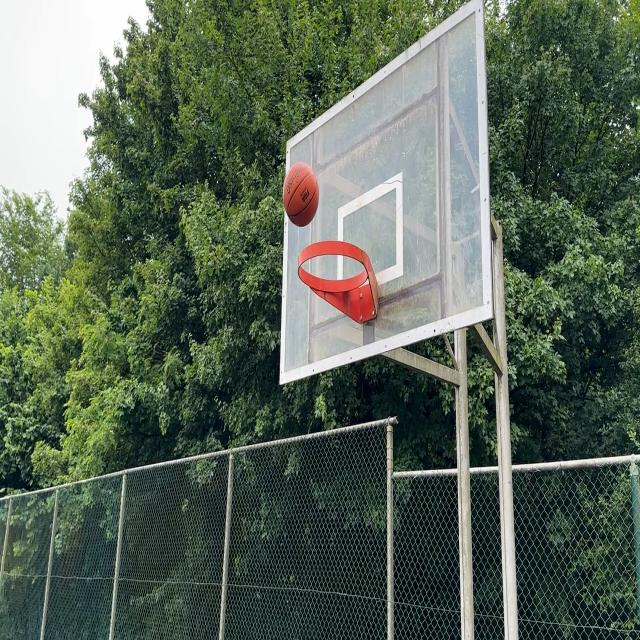Basketball: (283, 163, 319, 226)
